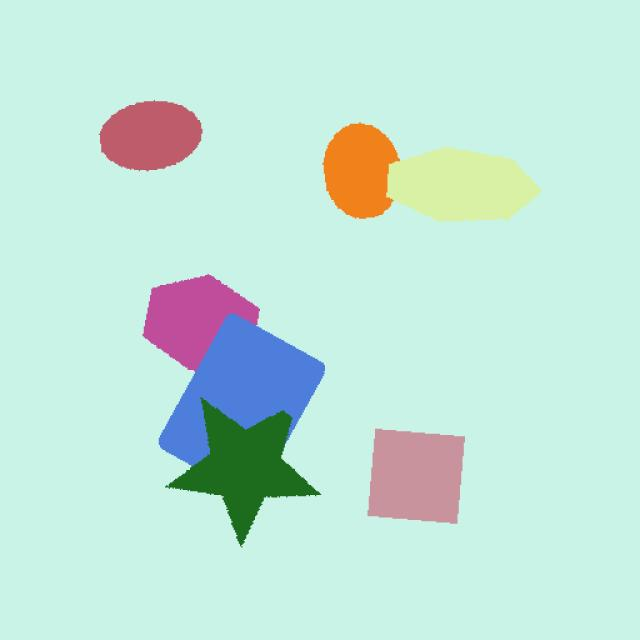Circle: (285, 126, 403, 226)
Heptagon: (356, 132, 547, 250)
Hexagon: (96, 264, 285, 382)
Oval: (100, 100, 219, 176)
Rectangle: (157, 311, 328, 488)
Star: (161, 396, 328, 540)
square: (347, 406, 492, 532)
